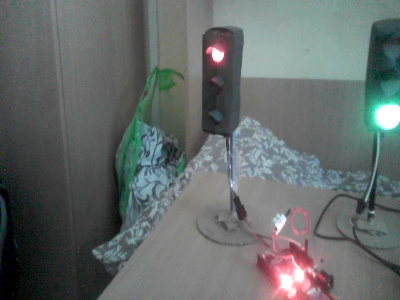trafficlight_green: (368, 21, 400, 130)
trafficlight_red: (202, 31, 237, 130)
